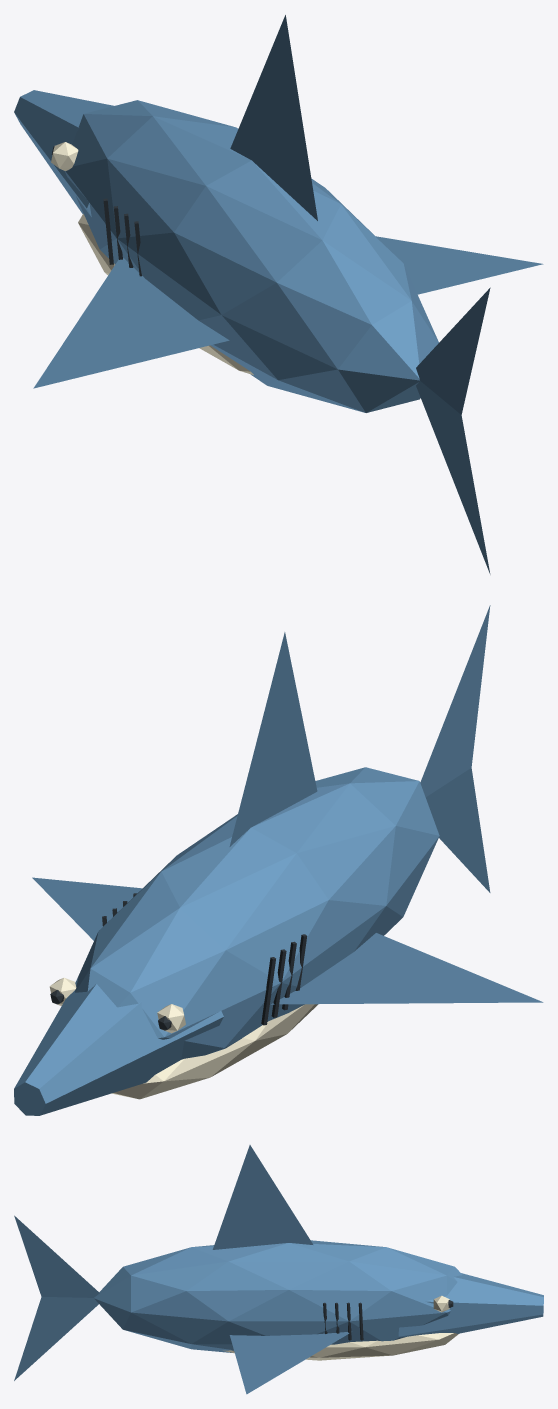
The model's file is BlueShark.fbx.
3 renders of one model, top to bottom at view 1: azimuth 30°, elevation 25°; view 2: azimuth 150°, elevation 25°; view 3: azimuth 270°, elevation 25°, orthographic. The views are drawn at different scales.
Parts seen in each view (by area): view 1: StreamlinedBody, Pectoral1, DorsalFin, TailFan, Pectoral-1, PointedSnout, PaleBelly; view 2: StreamlinedBody, PointedSnout, Pectoral1, TailFan, DorsalFin, PaleBelly, Pectoral-1; view 3: StreamlinedBody, TailFan, DorsalFin, PointedSnout, Pectoral-1, PaleBelly.
Part boxes in pixels (box(x1,y1,x2,y2)): StreamlinedBody: box(64, 100, 438, 412); Pectoral1: box(33, 258, 229, 388); DorsalFin: box(230, 15, 317, 220); TailFan: box(416, 287, 490, 574); Pectoral-1: box(376, 236, 543, 294); PointedSnout: box(14, 90, 113, 216); PaleBelly: box(78, 214, 253, 375); StreamlinedBody: box(75, 767, 439, 1059); PointedSnout: box(14, 977, 223, 1115); Pectoral1: box(271, 933, 543, 1004); TailFan: box(420, 605, 490, 892); DorsalFin: box(229, 632, 317, 846); PaleBelly: box(111, 1004, 317, 1099); Pectoral-1: box(32, 877, 142, 940); StreamlinedBody: box(94, 1240, 462, 1352); TailFan: box(14, 1215, 99, 1380); DorsalFin: box(212, 1145, 313, 1249); PointedSnout: box(398, 1273, 543, 1337); Pectoral-1: box(229, 1331, 351, 1394); PaleBelly: box(223, 1333, 458, 1360).
Size of the model in its own units: 2 by 1.54 by 3.12.
